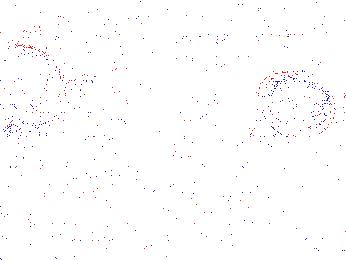moon jellyfish: (132, 46, 210, 123), (257, 71, 339, 140), (1, 44, 67, 126), (44, 77, 132, 123)
